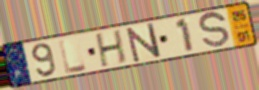1: (174, 17, 198, 54)
9: (30, 42, 58, 79)
H: (95, 28, 128, 70)
L: (57, 37, 89, 75)
N: (124, 21, 164, 64)
S: (198, 10, 231, 51)
